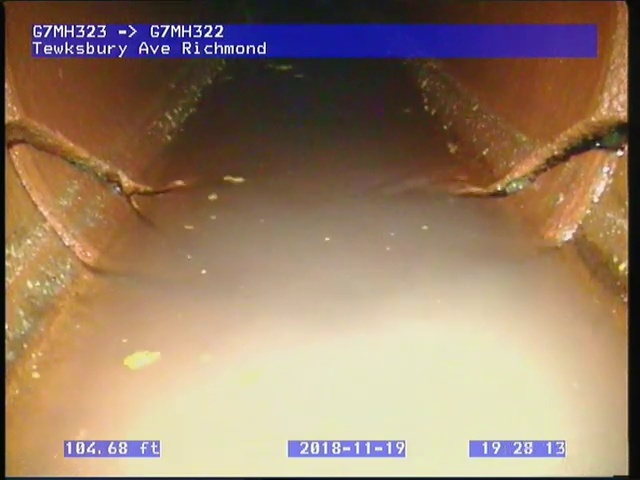crack: (5, 112, 183, 232), (451, 117, 626, 204)
